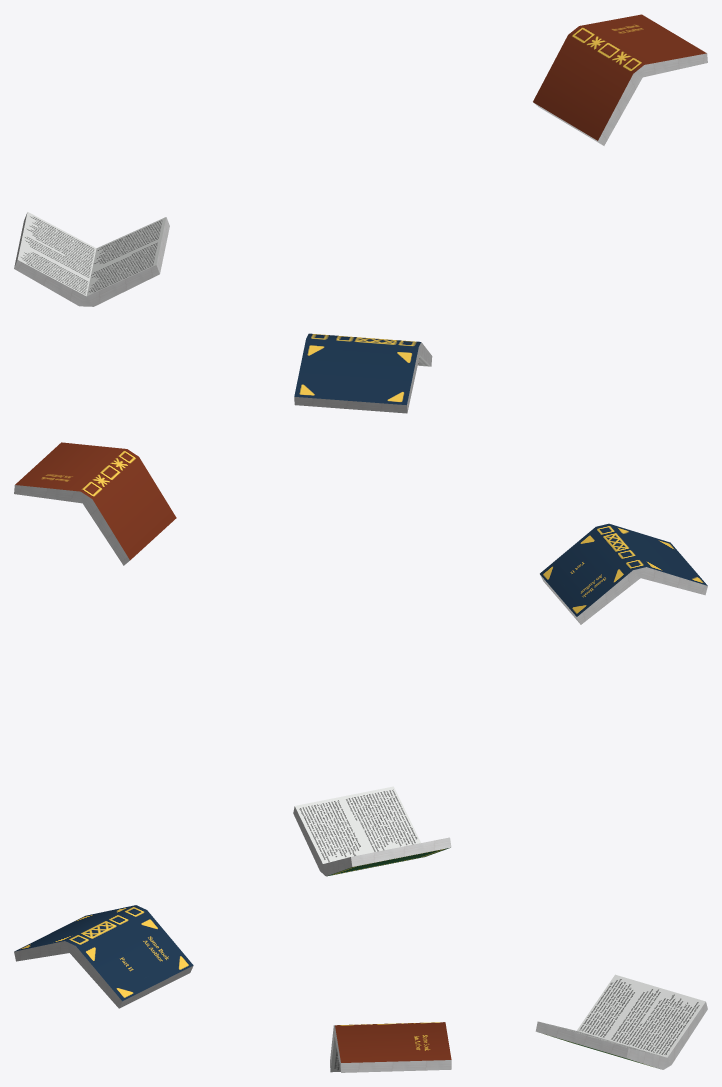
The model's file is FlyingBooksNoAnim.FBX.
The picture shows the model from 3 angles, top to bottom: view 1: azimuth 30°, elevation 25°; view 2: azimuth 150°, elevation 25°; view 3: azimuth 270°, elevation 25°; orthographic projection. The views are drawn at different scales.
Parts seen in each view (by area): view 1: BookCover, BookPage; view 2: BookCover, BookPage; view 3: BookCover, BookPage.
Part boxes in pixels (x1,y1,x2,y2): BookCover: (294,14,706,405); BookPage: (14,53,707,413); BookCover: (15,442,707,876); BookPage: (14,485,707,876); BookCover: (14,905,653,1067); BookPage: (14,941,707,1072).
Bounding box in the file's own units: 49.53 × 19.5 × 55.68.
